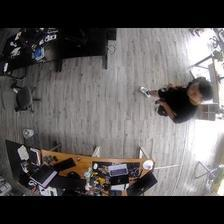normal: (138, 82, 212, 123)
